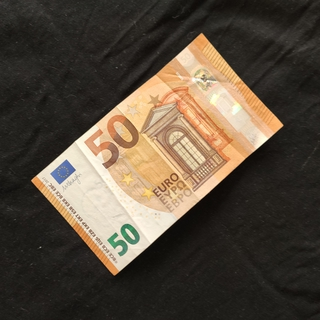50EUROFront: (29, 30, 285, 278)
